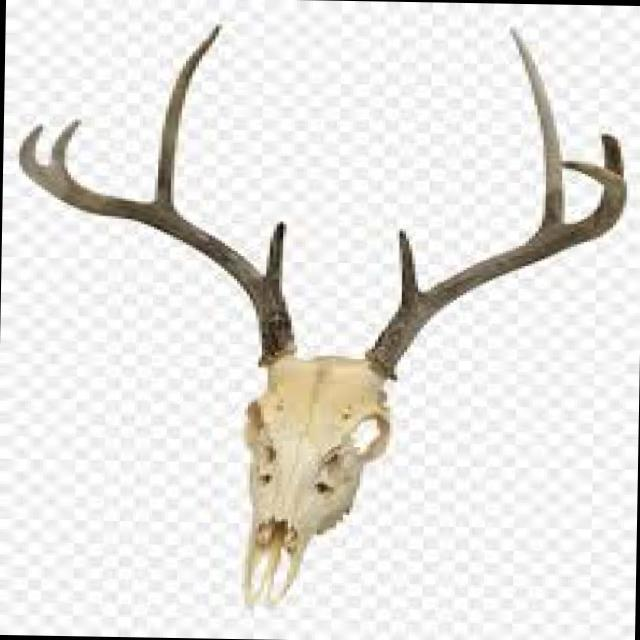L-F: (364, 159, 627, 383)
L-G1: (397, 226, 421, 305)
L-G2: (507, 25, 565, 228)
R-F: (19, 121, 296, 366)
R-G1: (265, 220, 287, 290)
R-G2: (154, 22, 224, 210)
R-G3: (49, 118, 84, 181)
